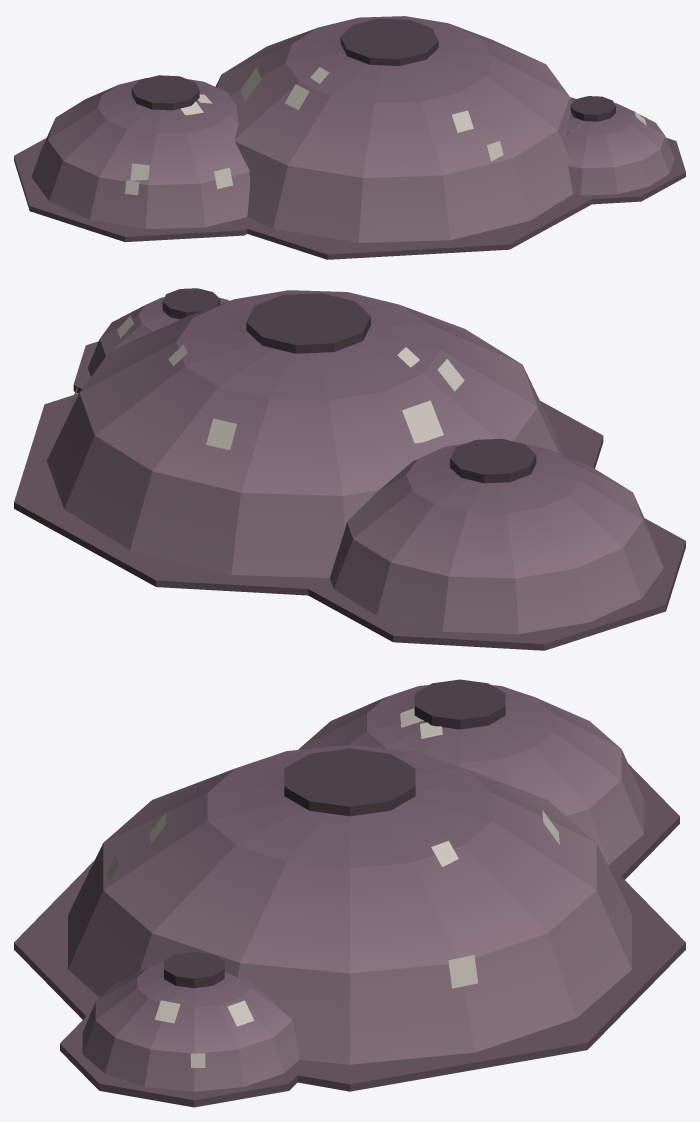
The model's file is spore_pod_v2.glb.
3 renders of one model, top to bottom at view 1: azimuth 30°, elevation 25°; view 2: azimuth 150°, elevation 25°; view 3: azimuth 270°, elevation 25°, orthographic. The views are drawn at different scales.
Parts seen in each view (by area): view 1: world; view 2: world; view 3: world.
Part boxes in pixels (box(x1,y1,x2,y2)): world: box(14, 16, 685, 259); world: box(14, 288, 685, 650); world: box(14, 679, 685, 1107).
Size of the model in its own units: 1 by 0.213 by 0.7538.
